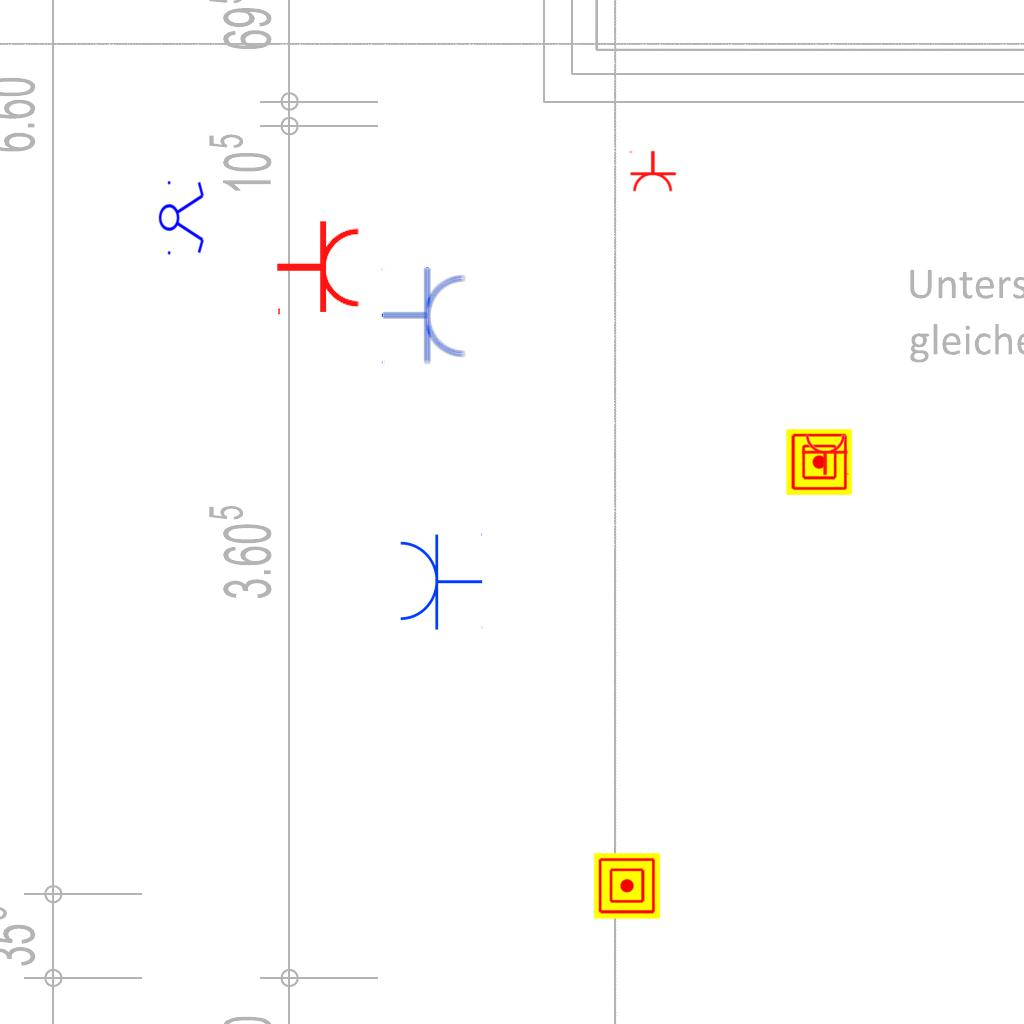NAM-Nichtautomatischer_Melder: (594, 853, 660, 919), (786, 429, 852, 495)
Schukosteckdose_einfach: (381, 266, 468, 366), (275, 219, 362, 319), (396, 531, 483, 631), (627, 150, 677, 193), (801, 433, 851, 476)
Serienschalter: (158, 175, 206, 259)
